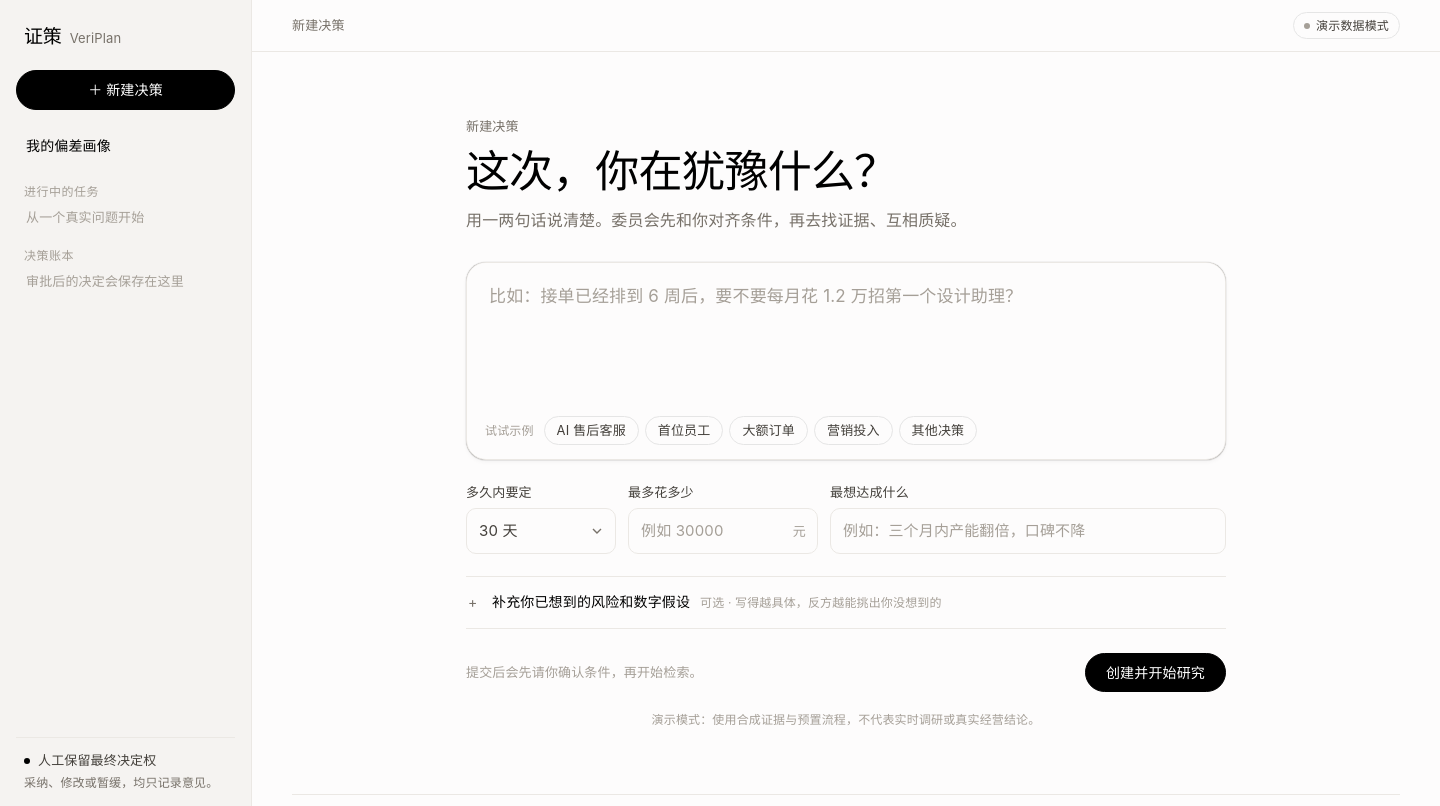
Test case: polls background snapshots and stops at the human confirmation gate
The width and height of the screenshot is (1440, 806).
Click the button with aria-label "填入 AI 售后客服示例" at x=591, y=430, box [544,416,639,445]
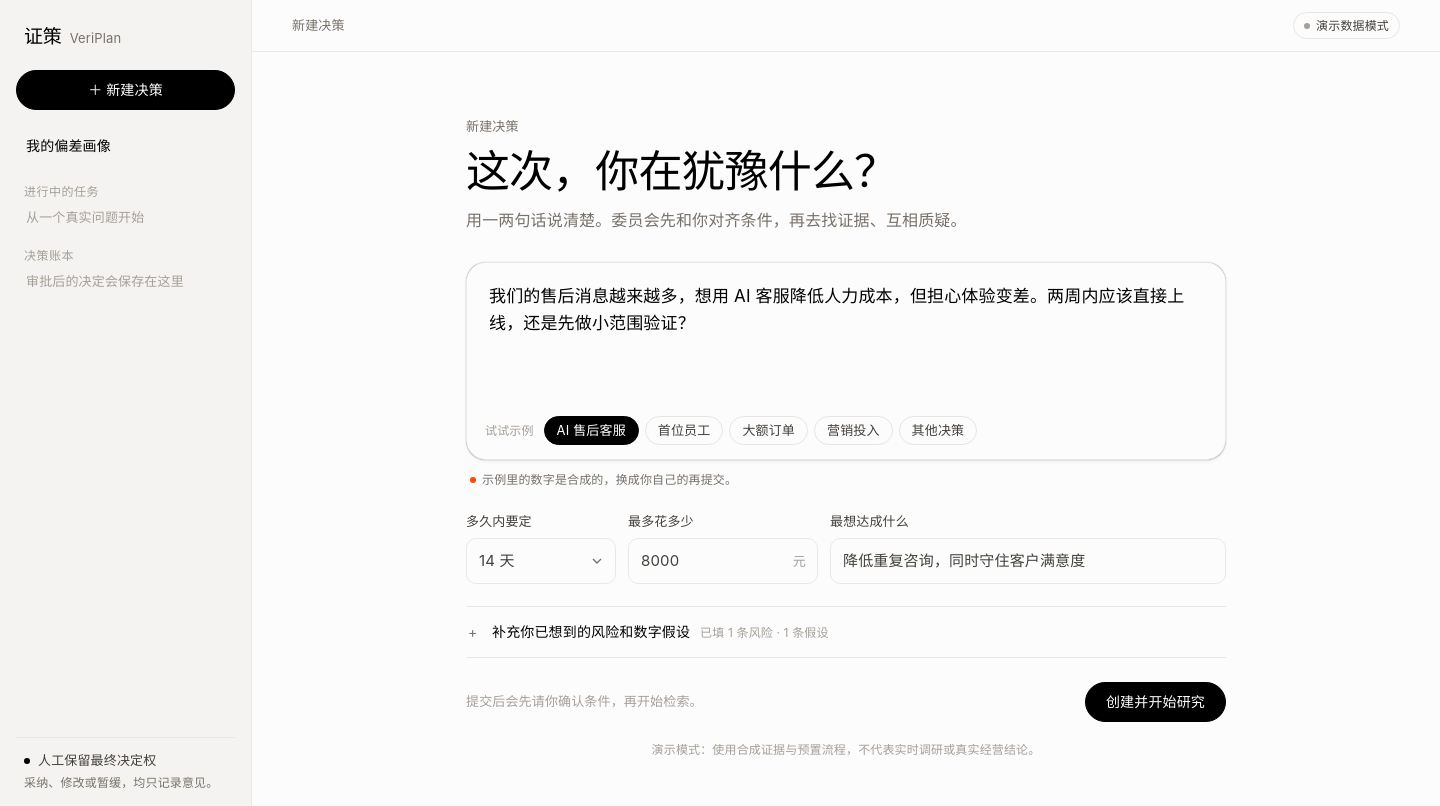
Replace the text in the text box named "经营决策问题" with "我们是否应该先小范围验证 AI 售后客服？" at x=846, y=331, box [467,263,1225,400]
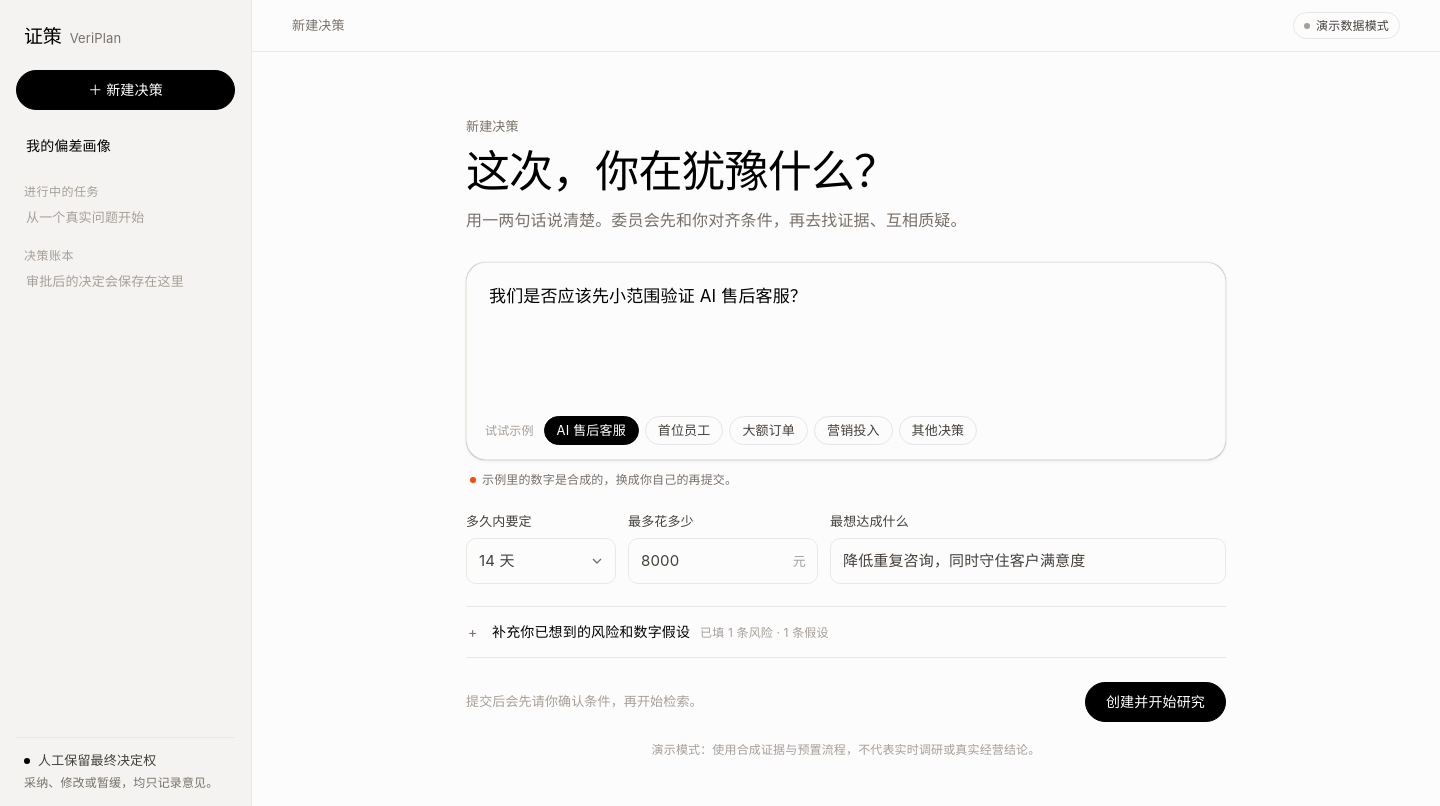
Click the button "创建并开始研究" at x=1155, y=702, box [1085,682,1226,722]
Wait 3750 ms
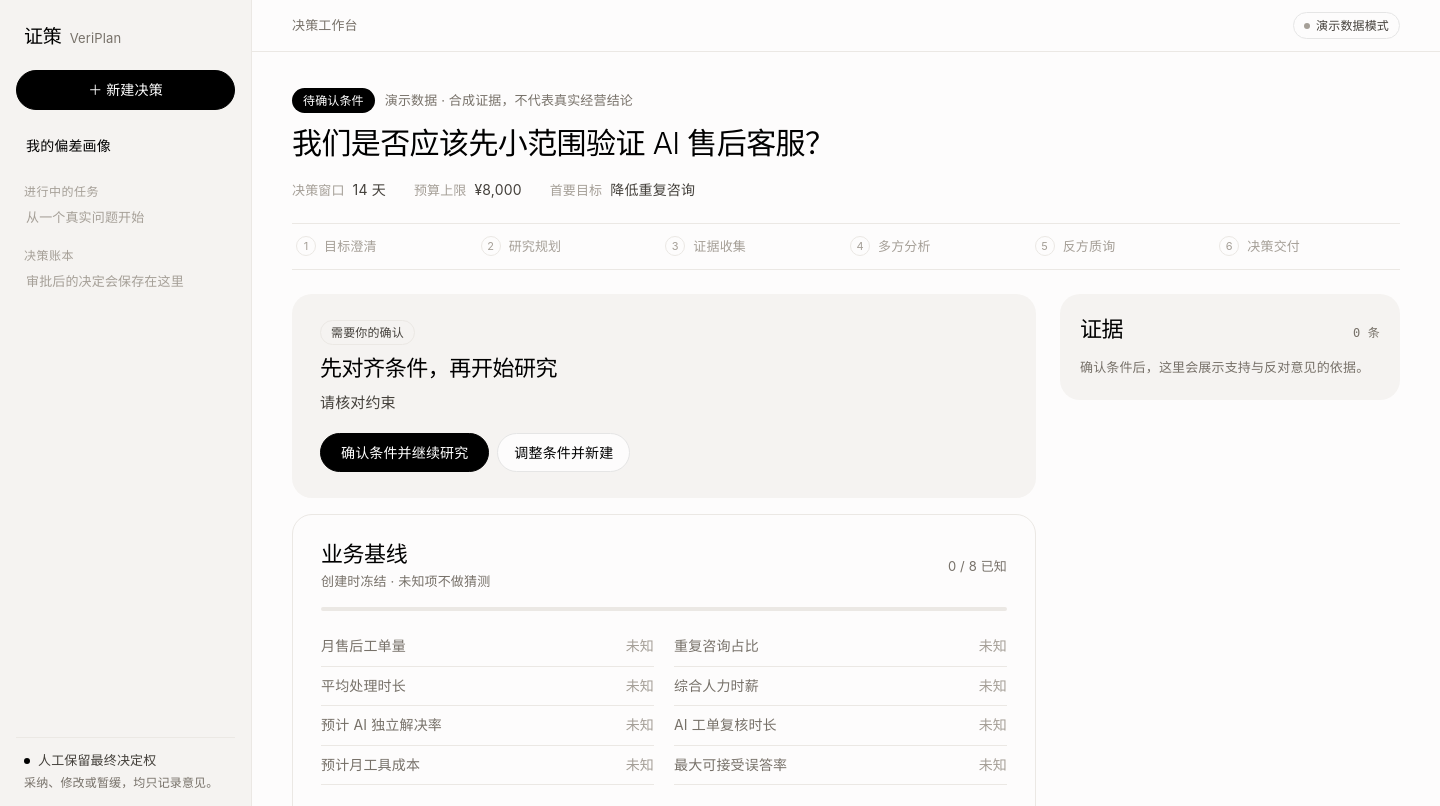
Expected: the button "确认条件并继续研究" is shown, [320,433,489,472]
